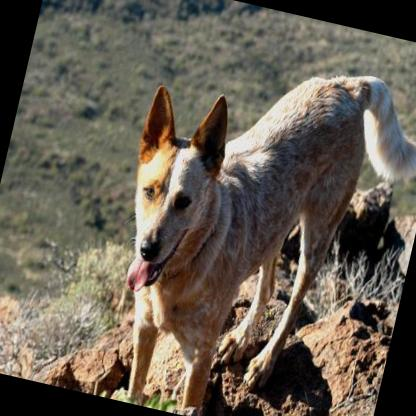dingo: (80, 24, 416, 416)
